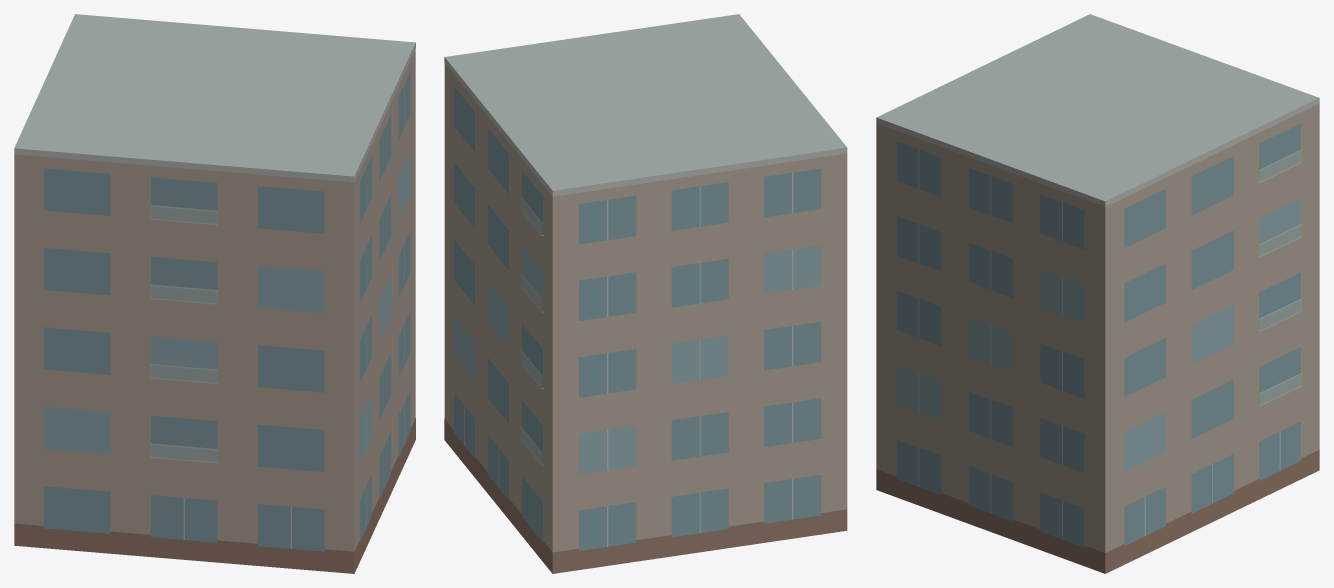
The model's file is survey-upis-32533916.glb.
3 renders of one model, left to right at view 1: azimuth 30°, elevation 25°; view 2: azimuth 150°, elevation 25°; view 3: azimuth 270°, elevation 25°, orthographic. The views are drawn at different scales.
Parts seen in each view (by area): view 1: survey-upis-32533916.tmp; view 2: survey-upis-32533916.tmp; view 3: survey-upis-32533916.tmp.
Part boxes in pixels (left/top/right/bottom): survey-upis-32533916.tmp: left=14, top=14, right=415, bottom=573; survey-upis-32533916.tmp: left=444, top=14, right=847, bottom=573; survey-upis-32533916.tmp: left=876, top=14, right=1319, bottom=573.
Bounding box in the file's own units: 17.28 × 16 × 17.26.
